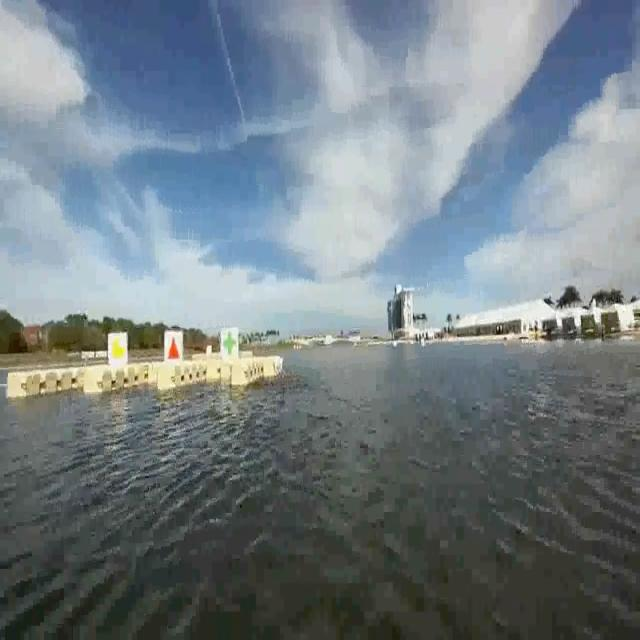blue-cross: (222, 323, 240, 362)
red-dot: (164, 332, 184, 365)
yellow-duck: (110, 334, 126, 359)
